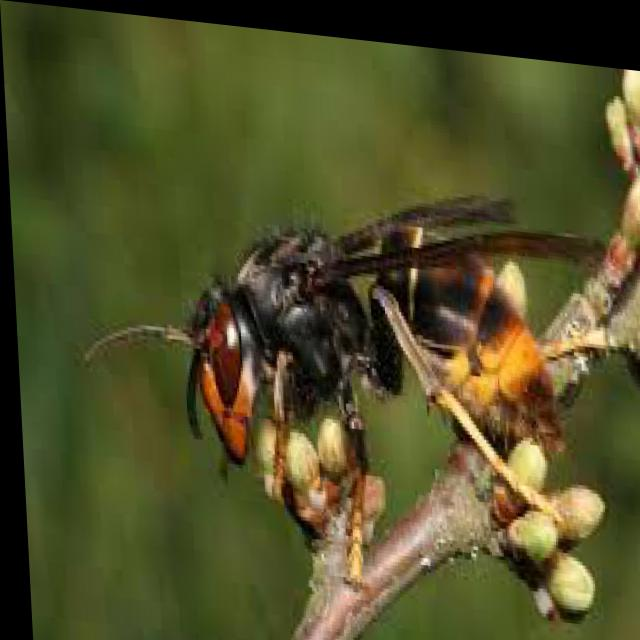Vespa Velutina: (59, 132, 624, 610)
